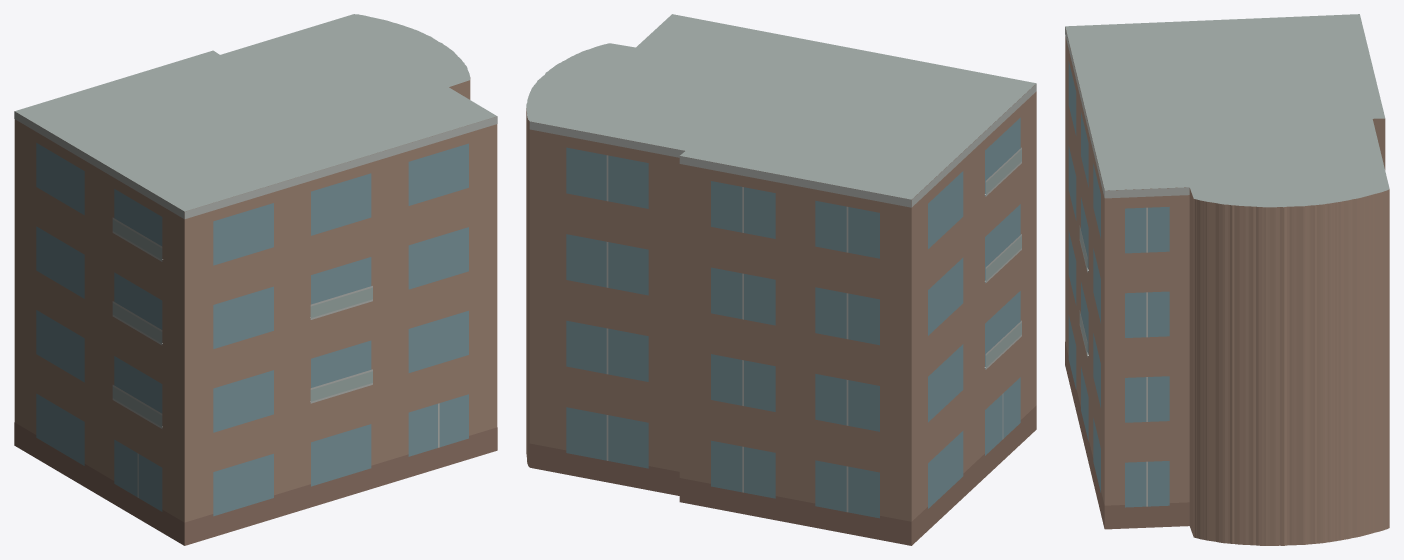
File: survey-upis-32665566.glb
The picture shows the model from 3 angles, left to right: view 1: azimuth 30°, elevation 25°; view 2: azimuth 150°, elevation 25°; view 3: azimuth 270°, elevation 25°; orthographic projection. The views are drawn at different scales.
Parts seen in each view (by area): view 1: survey-upis-32665566.tmp; view 2: survey-upis-32665566.tmp; view 3: survey-upis-32665566.tmp.
Part boxes in pixels (left/top/right/bottom): survey-upis-32665566.tmp: left=14, top=14, right=497, bottom=545; survey-upis-32665566.tmp: left=526, top=14, right=1036, bottom=545; survey-upis-32665566.tmp: left=1065, top=14, right=1389, bottom=545.
Size of the model in its own units: 12.85 by 10.5 by 9.13.
